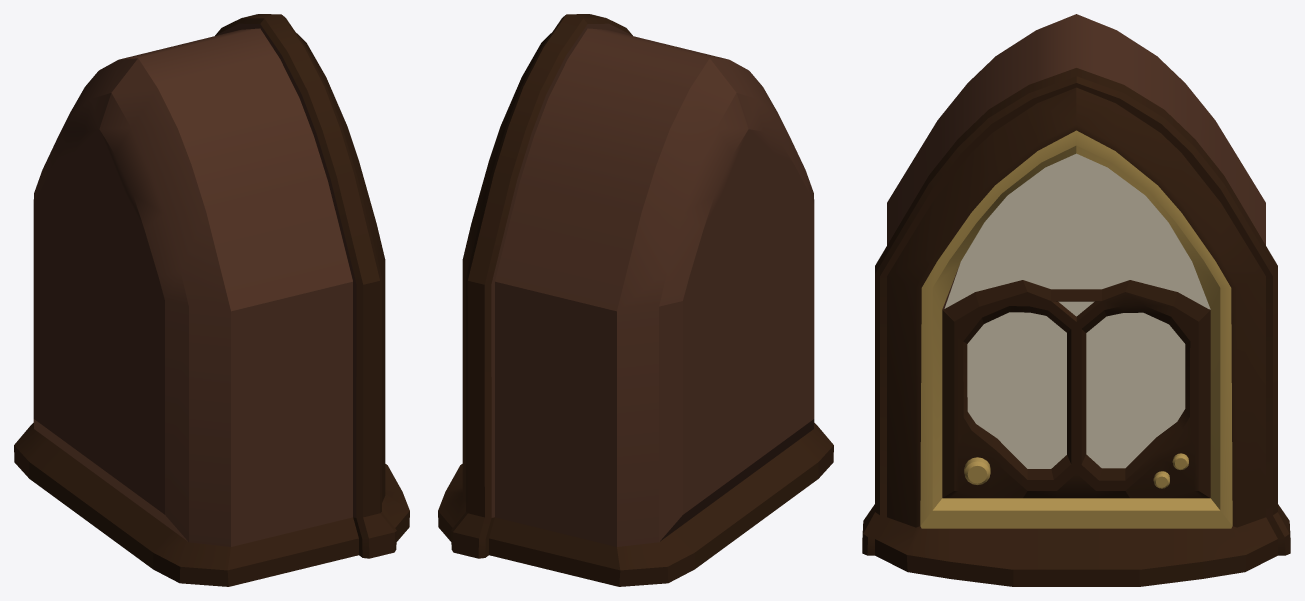
The model's file is MiscRadio.fbx.
3 views of the same model, side by side, from view 1: azimuth 30°, elevation 25°; view 2: azimuth 150°, elevation 25°; view 3: azimuth 270°, elevation 25° (orthographic). The views are drawn at different scales.
Parts seen in each view (by area): view 1: polySurface1; view 2: polySurface1; view 3: polySurface1.
Boxes of the visible parts, box(x1,y1,x2,y2) form: polySurface1: box(14, 14, 409, 586); polySurface1: box(438, 14, 833, 586); polySurface1: box(862, 14, 1290, 586).
Size of the model in its own units: 1.65 by 2.75 by 2.26.
